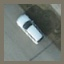car: (15, 15, 43, 44)
